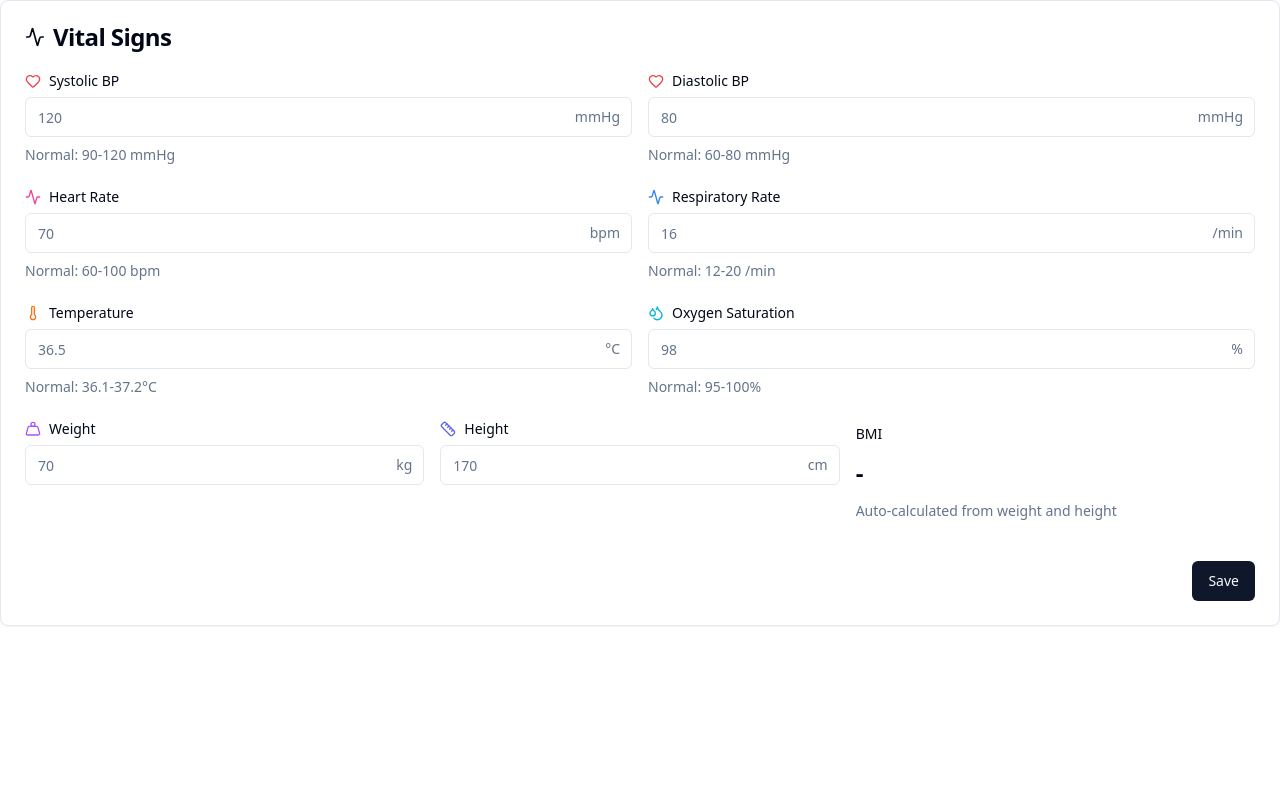
Test: VitalsInput › Validation › shows error for systolic BP above maximum
Type "300" into the number field with placeholder "120" at (328, 117), box [25,97,632,137]
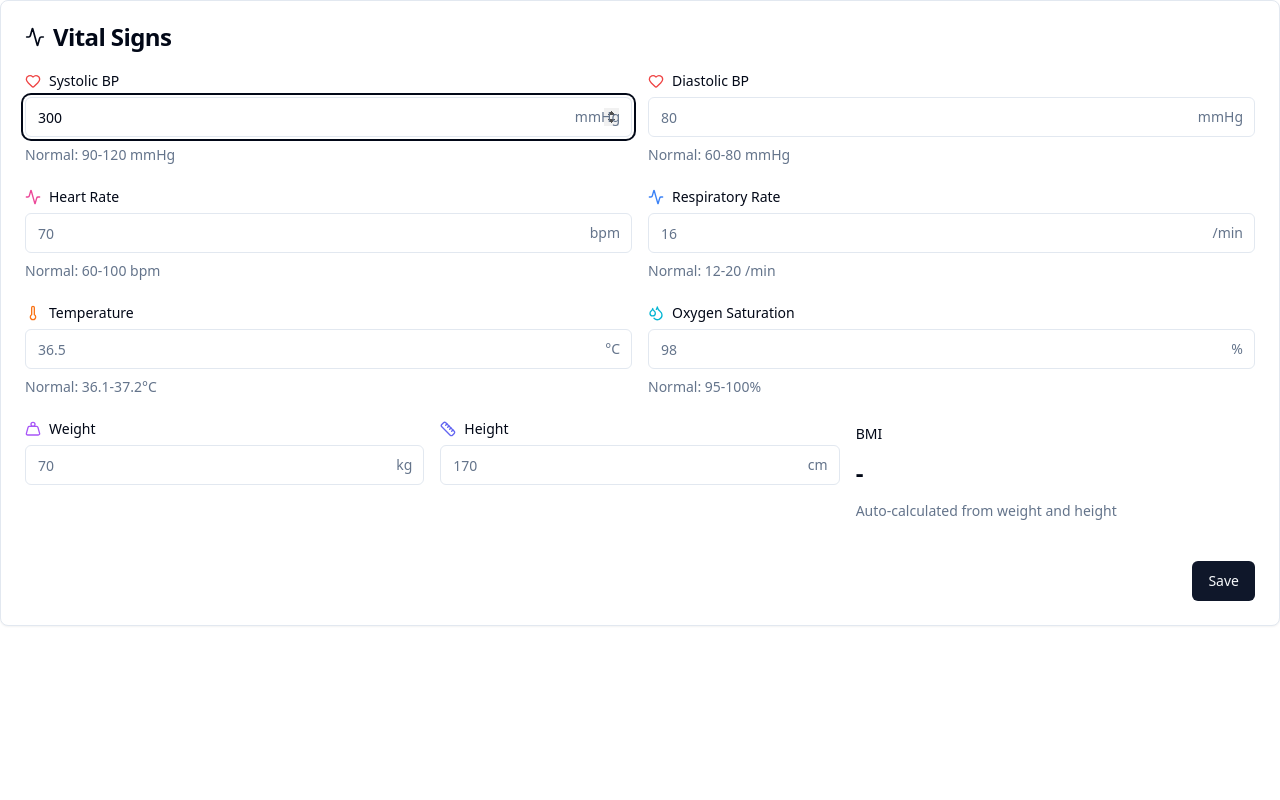
Click the button "Save" at (1224, 581), box [1192,561,1255,601]
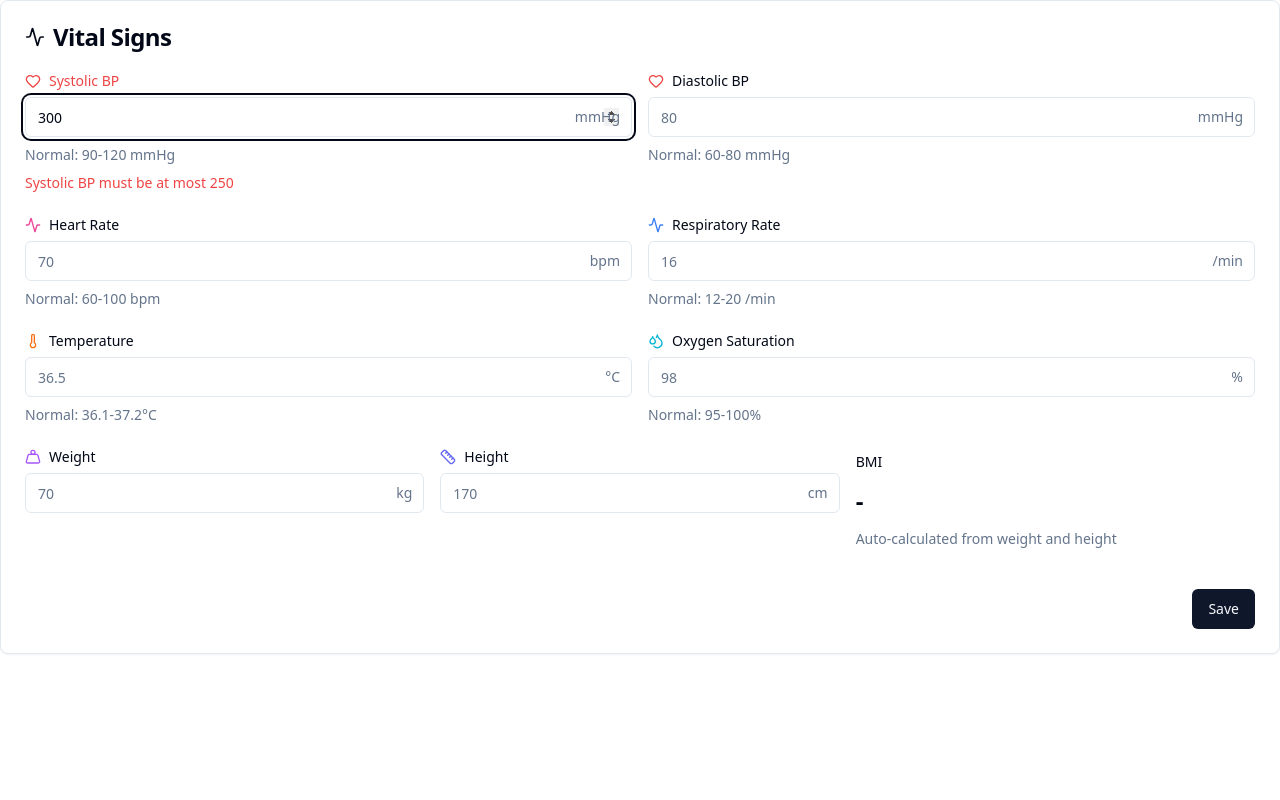
Now the text "Systolic BP must be at most 250" is shown, box [25,173,234,192]
